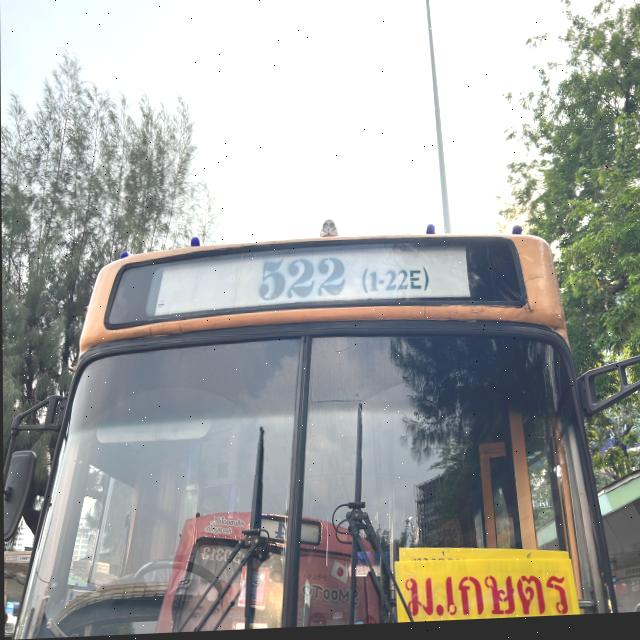BMTA-bus: (1, 204, 620, 639)
Bus Line Number: (238, 249, 439, 309)
Destination Sign: (394, 551, 580, 626)
